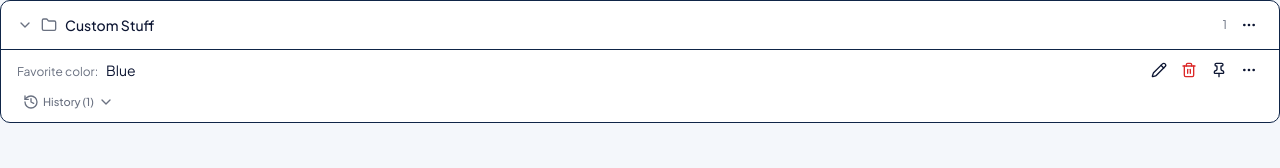
Scenario: CompactCategorySection — one line per slot › lists ended values under History (n)
This screenshot has width=1280, height=168.
Expected: the text "Red" is not shown
Step 1. Click the button "History (1)" → (68,102), box [17,90,120,114]
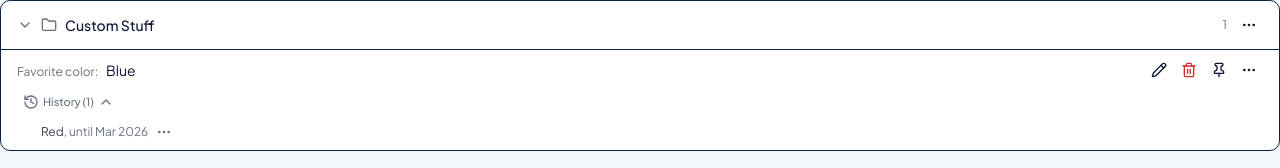
Now the text "Red" is shown, box [41,124,64,139]
Now the text "Red, until Mar 2026" is shown, box [41,124,148,140]
